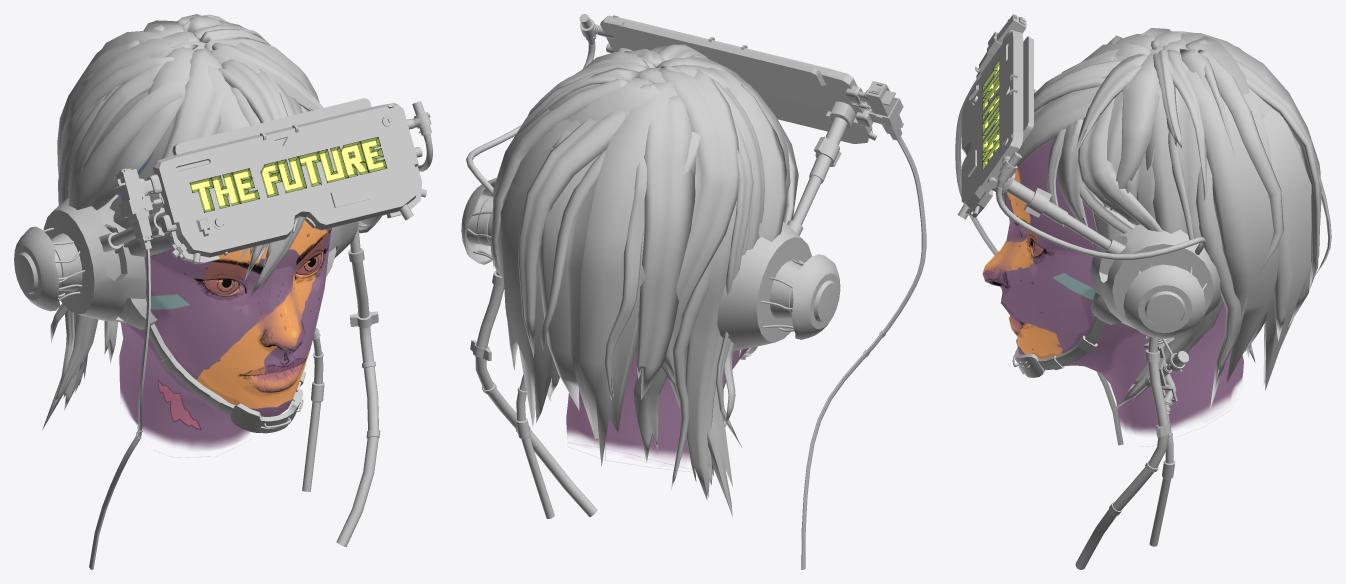
The model's file is thefuture.gltf.
3 renders of one model, left to right at view 1: azimuth 30°, elevation 25°; view 2: azimuth 150°, elevation 25°; view 3: azimuth 270°, elevation 25°, orthographic. The views are drawn at different scales.
Visible parts, largest first — view 1: Object_7, Object_3, Object_2, Object_8, Object_5, Object_4; view 2: Object_3, Object_7, Object_8, Object_4, Object_2; view 3: Object_3, Object_7, Object_2, Object_4, Object_8, Object_5.
Part boxes in pixels (x1,y1,x2,y2): Object_7: (14, 98, 432, 569); Object_3: (42, 14, 323, 429); Object_2: (117, 159, 331, 457); Object_8: (19, 104, 422, 546); Object_5: (189, 137, 387, 212); Object_4: (143, 15, 268, 280); Object_3: (491, 44, 798, 516); Object_7: (461, 14, 926, 569); Object_8: (467, 18, 903, 518); Object_4: (518, 55, 705, 357); Object_2: (566, 346, 748, 471); Object_3: (1002, 28, 1331, 410); Object_7: (955, 14, 1221, 445); Object_2: (982, 139, 1243, 446); Object_4: (1034, 36, 1320, 411); Object_8: (965, 14, 1207, 569); Object_5: (982, 60, 999, 169).
Size of the model in its own units: 18.02 by 24.55 by 17.51.
